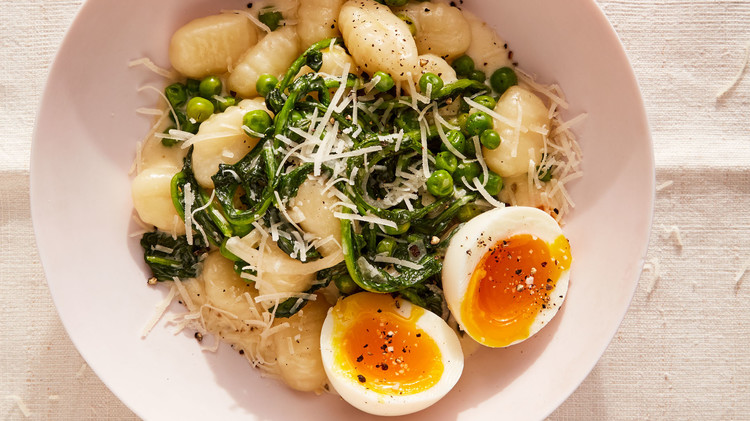fried egg: (321, 297, 450, 407), (450, 229, 561, 356)
